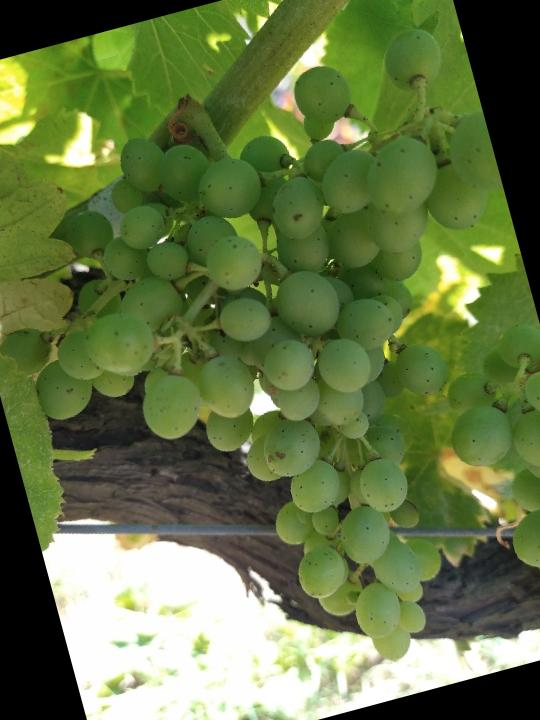grape: (0, 20, 540, 720)
